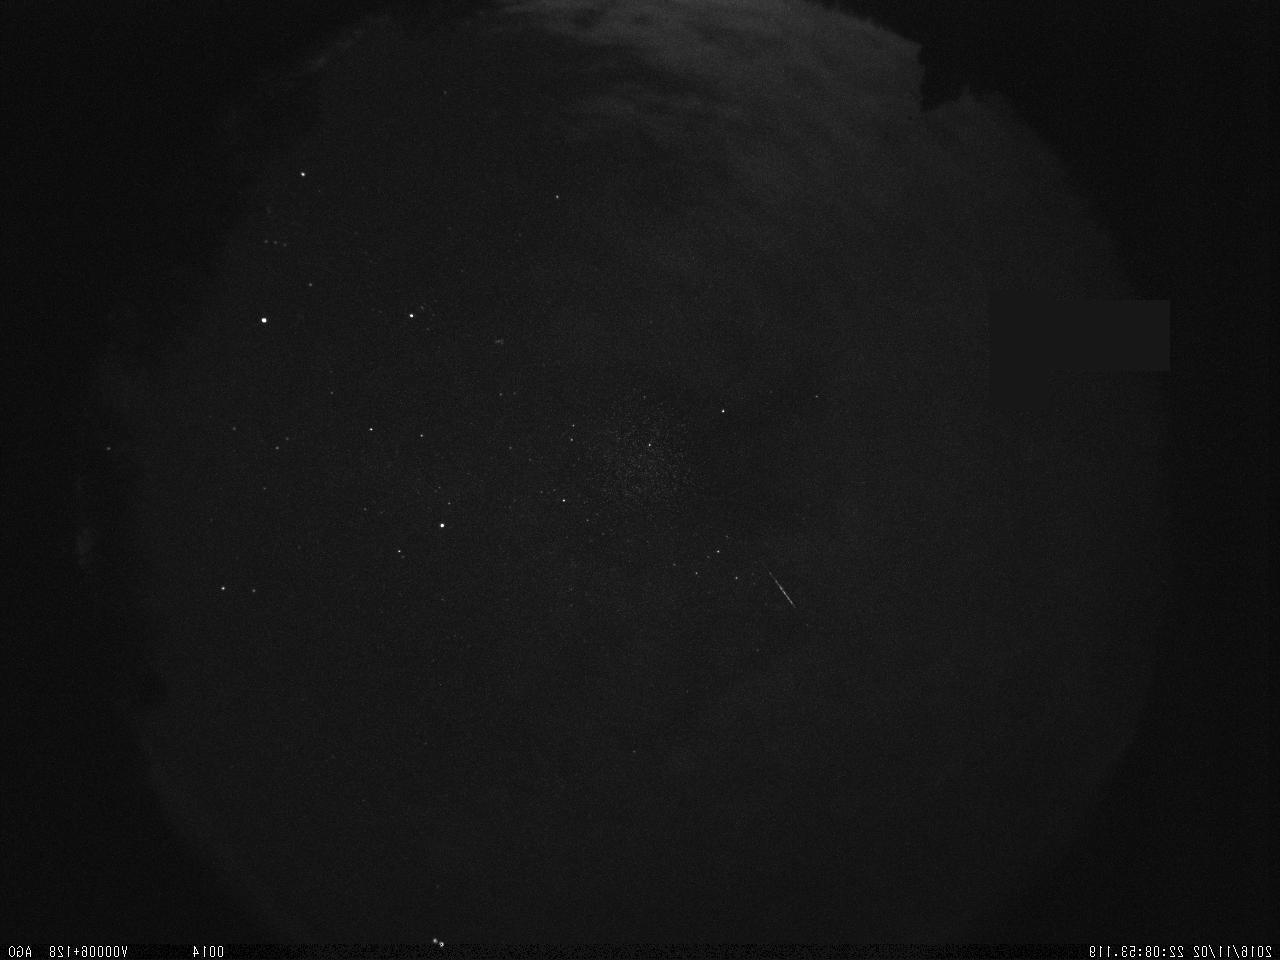meteor: (763, 564, 802, 612)
